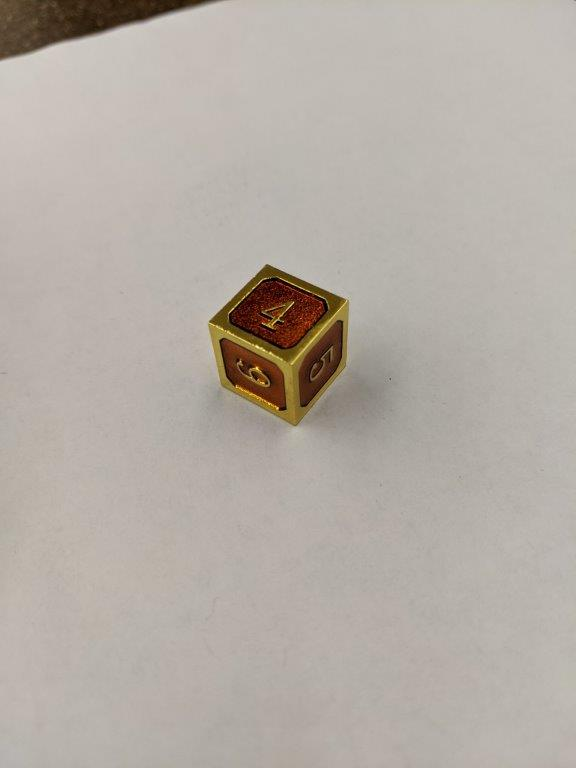d6-4: (207, 263, 349, 425)
